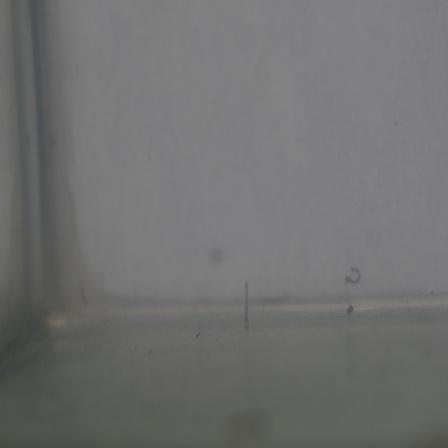Jentik-Nyamuk: (241, 278, 253, 332), (342, 264, 366, 290)
